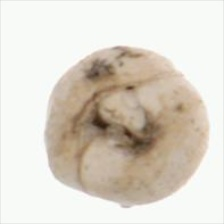L3: (84, 83, 153, 149)
L4: (43, 44, 210, 206)
